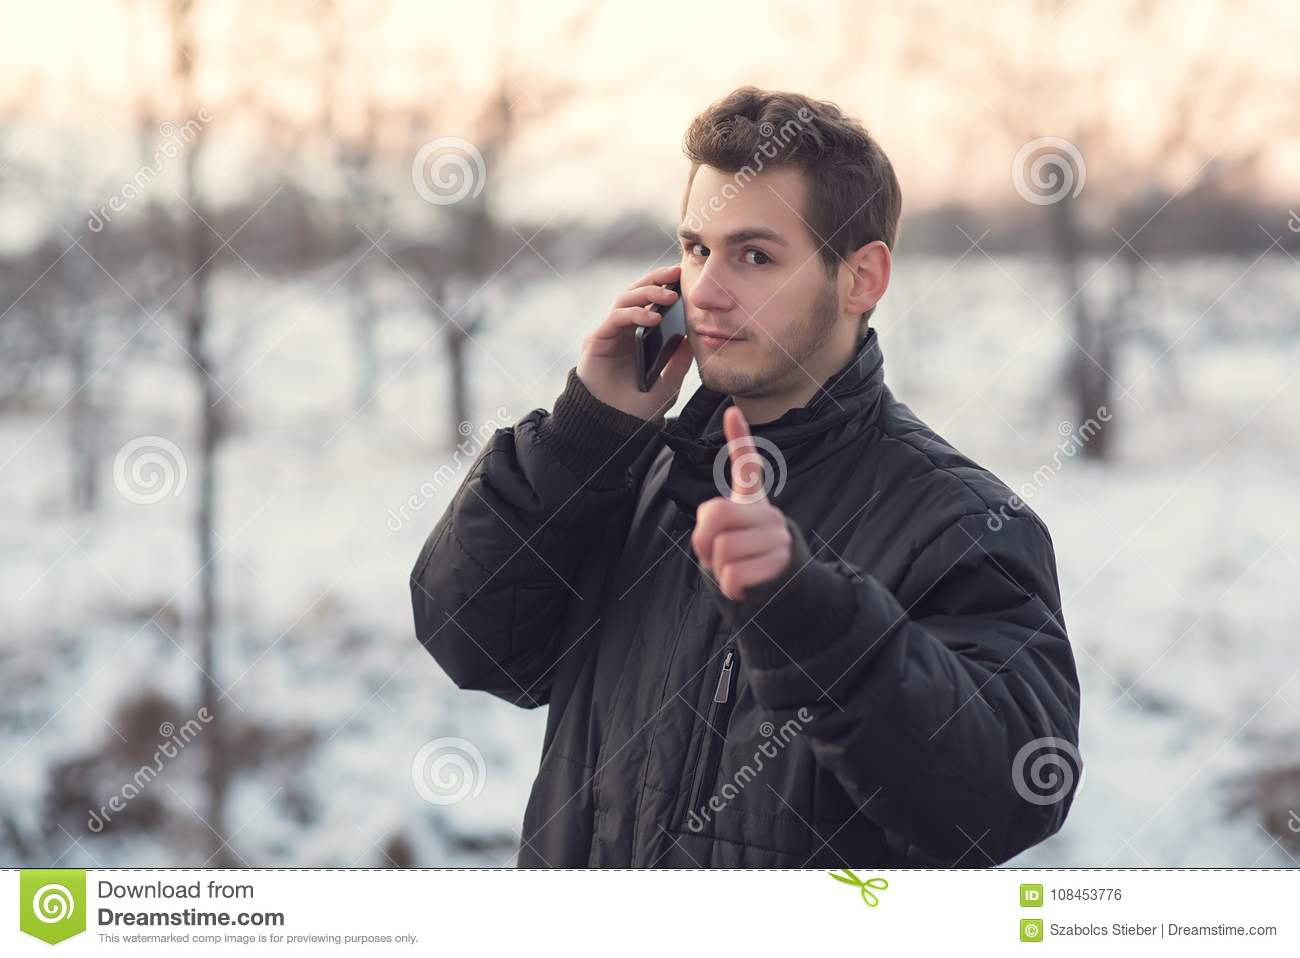phone: (631, 272, 689, 399)
talk: (578, 223, 796, 413)
